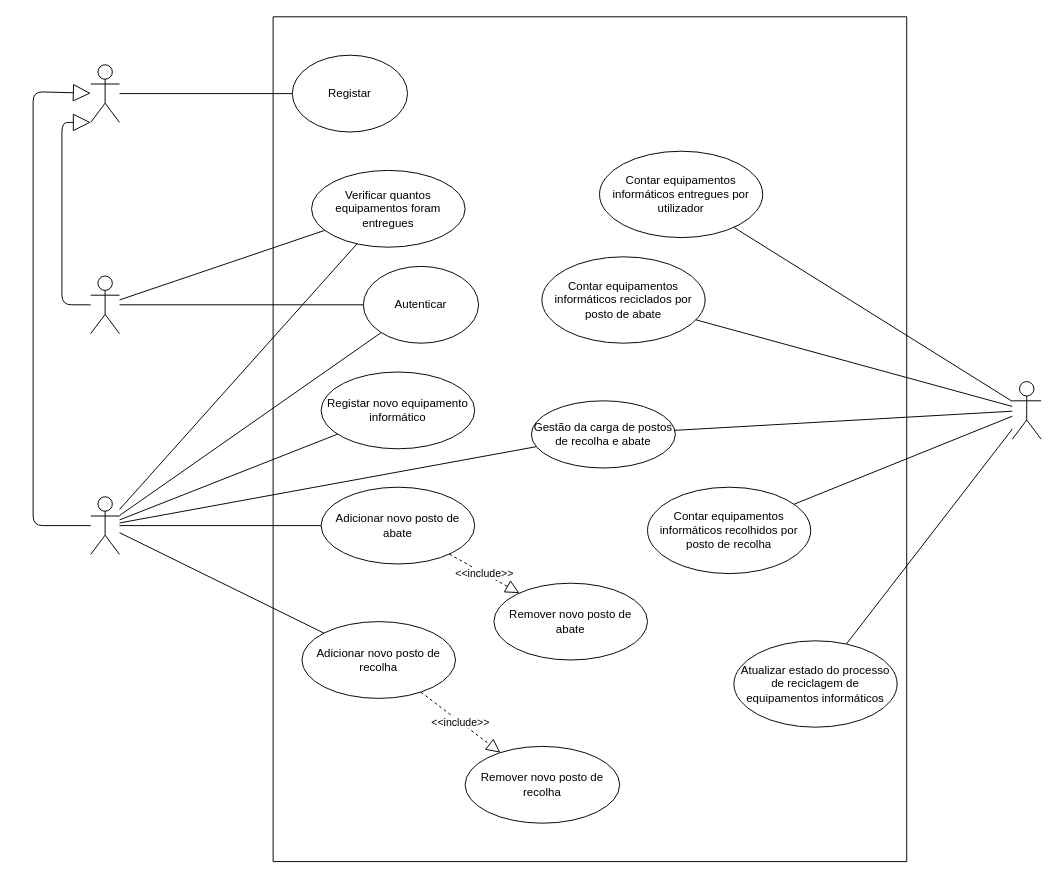
Some shapes in this 1064 by 878 pixel diagram are drawn without their labels. The box of each missing label's shape, as (x1, y1, x2, y2) in pixels:
Admin: (90, 496, 120, 554)
Sistema: (1011, 381, 1041, 439)
Utilizador: (90, 64, 120, 122)
Utilizador autenticado: (90, 275, 120, 334)
